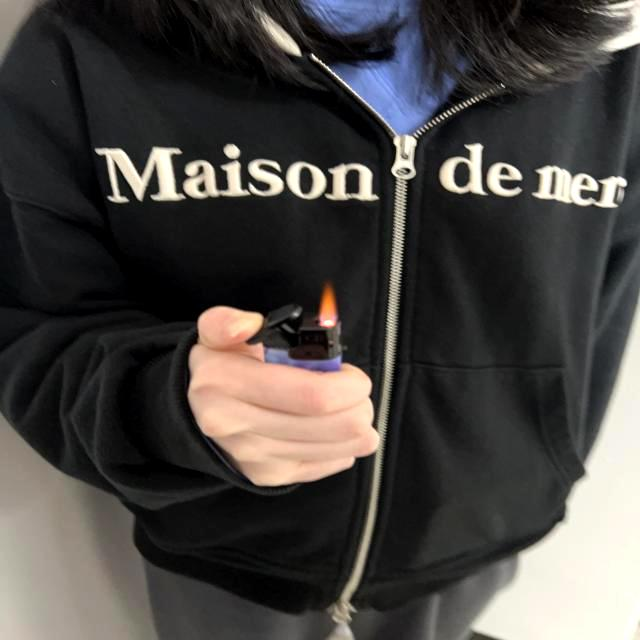fire: (312, 280, 340, 324)
